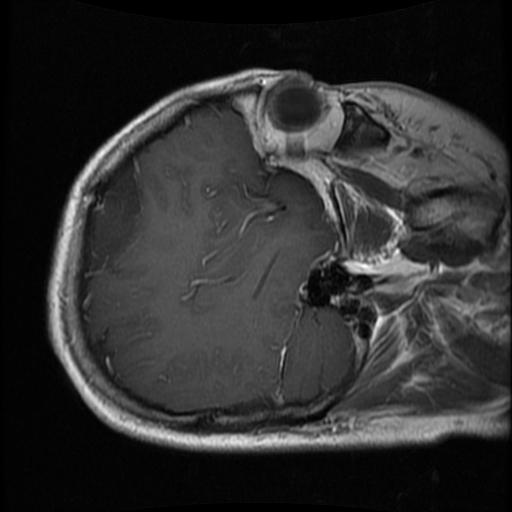glioma: (92, 161, 135, 273)
